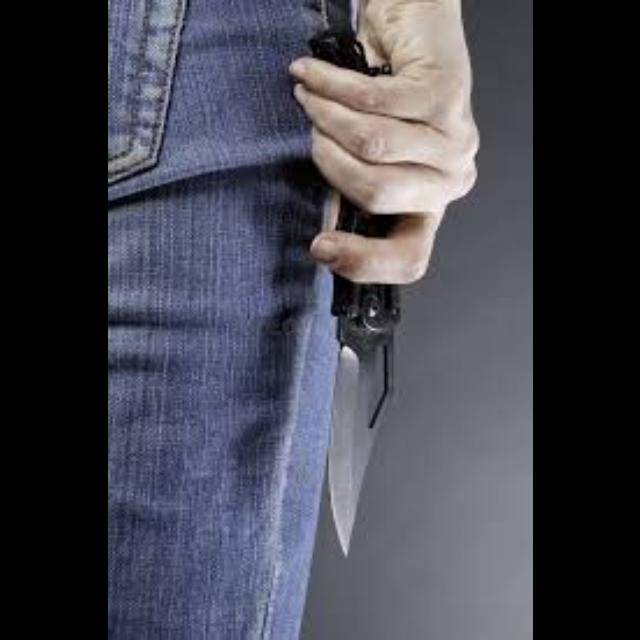Knife: (308, 0, 400, 556)
Person: (107, 1, 485, 640)
Weapon Holding: (316, 19, 468, 259)
